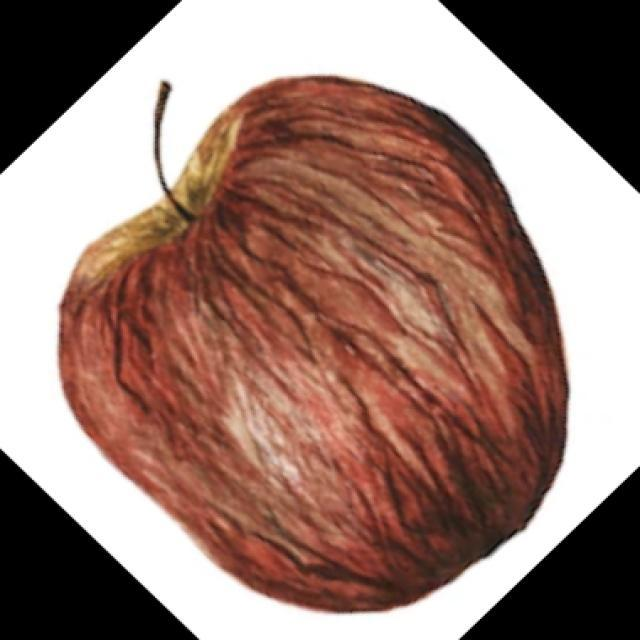Rotten: (93, 50, 587, 608)
